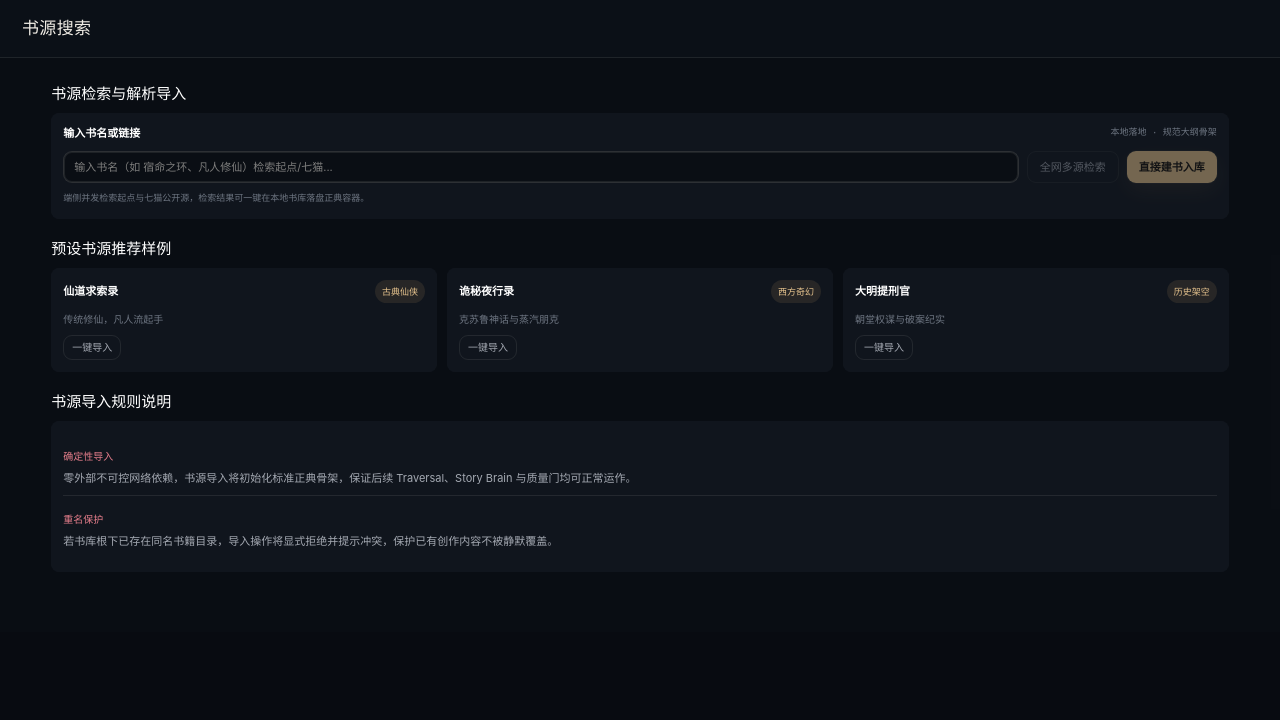
BookSourceView（书源搜索与导入） › 导入失败显式报错（role=alert），不静默
Type "冲突之书" into the field named "书源检索输入" at (541, 167), box [63,150,1019,183]
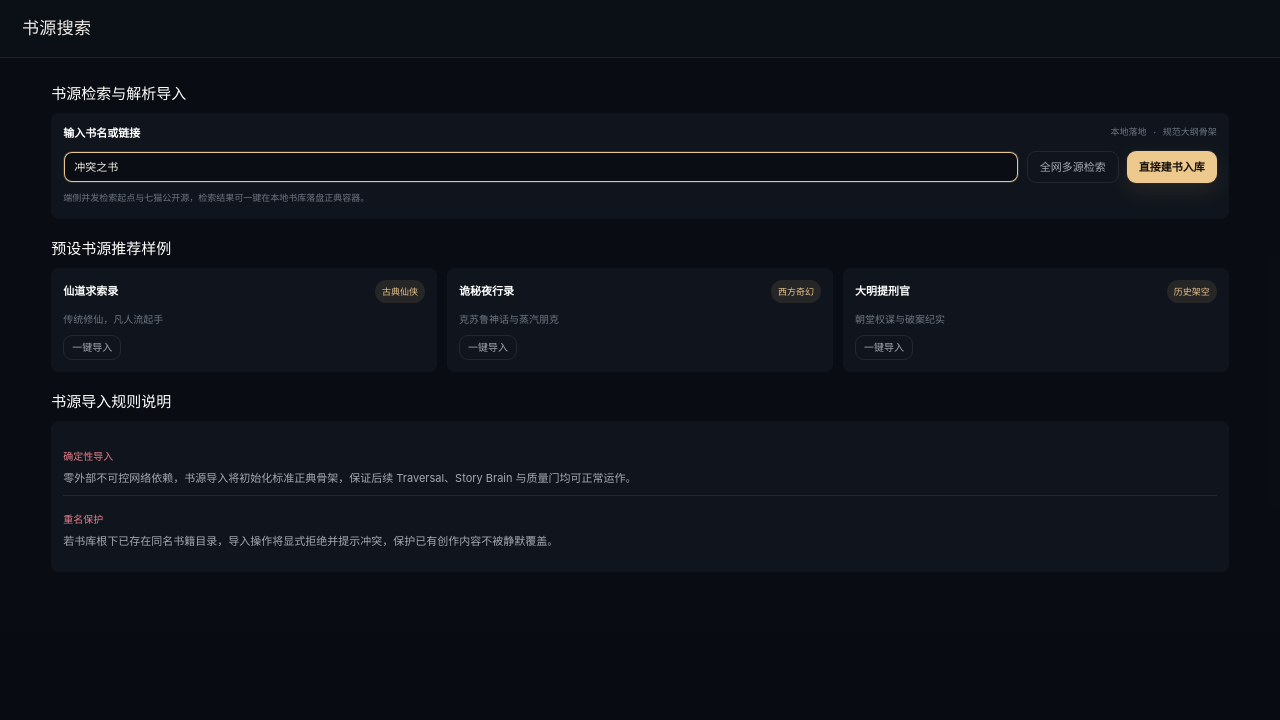
Click the button "直接建书入库" at (1172, 167), box [1127,150,1217,183]
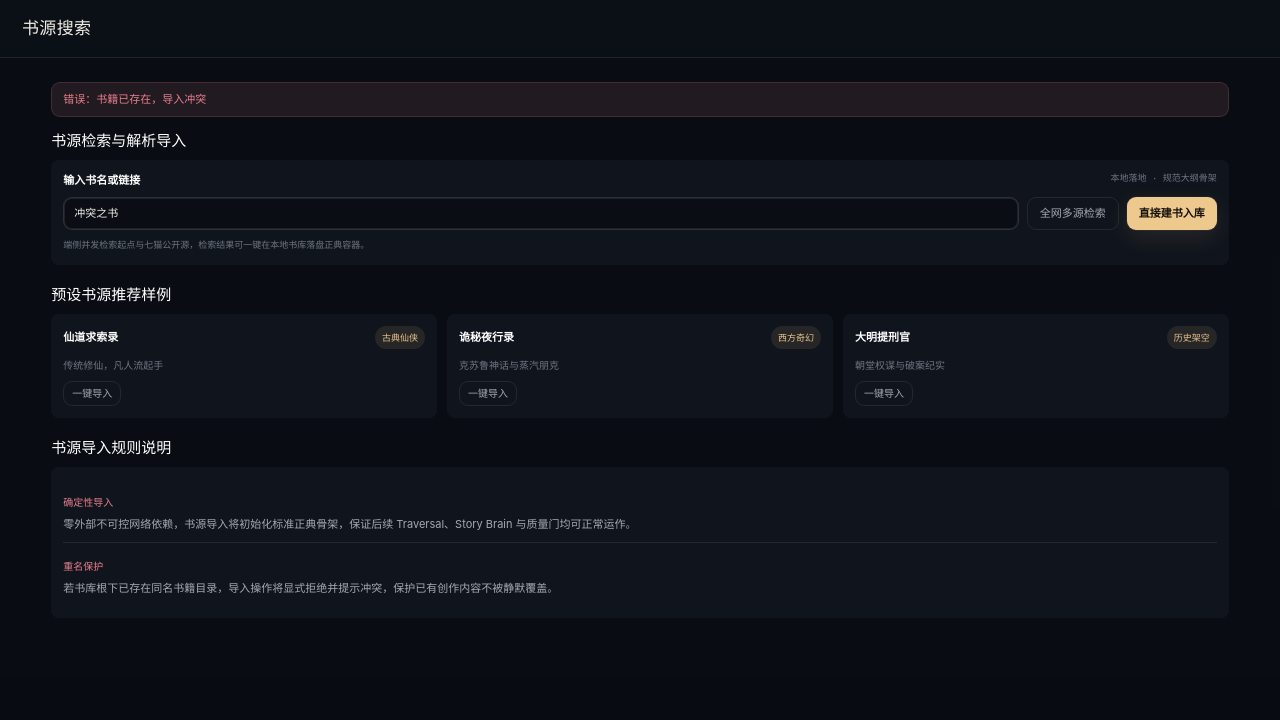
Result: the message "错误：书籍已存在，导入冲突" is shown at [51,82,1229,116]
Result: the message with test id "book-source-error" shows "书籍已存在，导入冲突" at [96,92,206,106]
